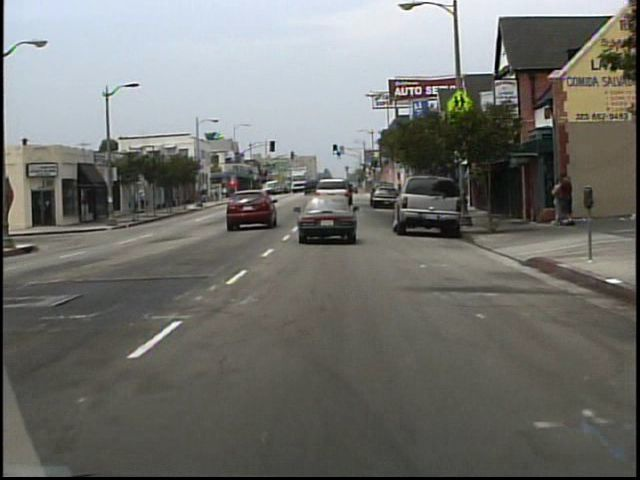person: (558, 172, 574, 226), (551, 177, 566, 227), (138, 187, 149, 214)
